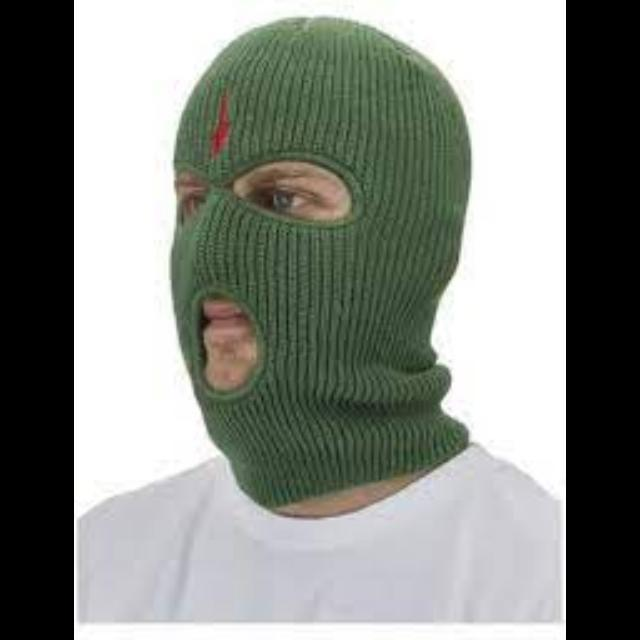criminal: (74, 15, 565, 624)
